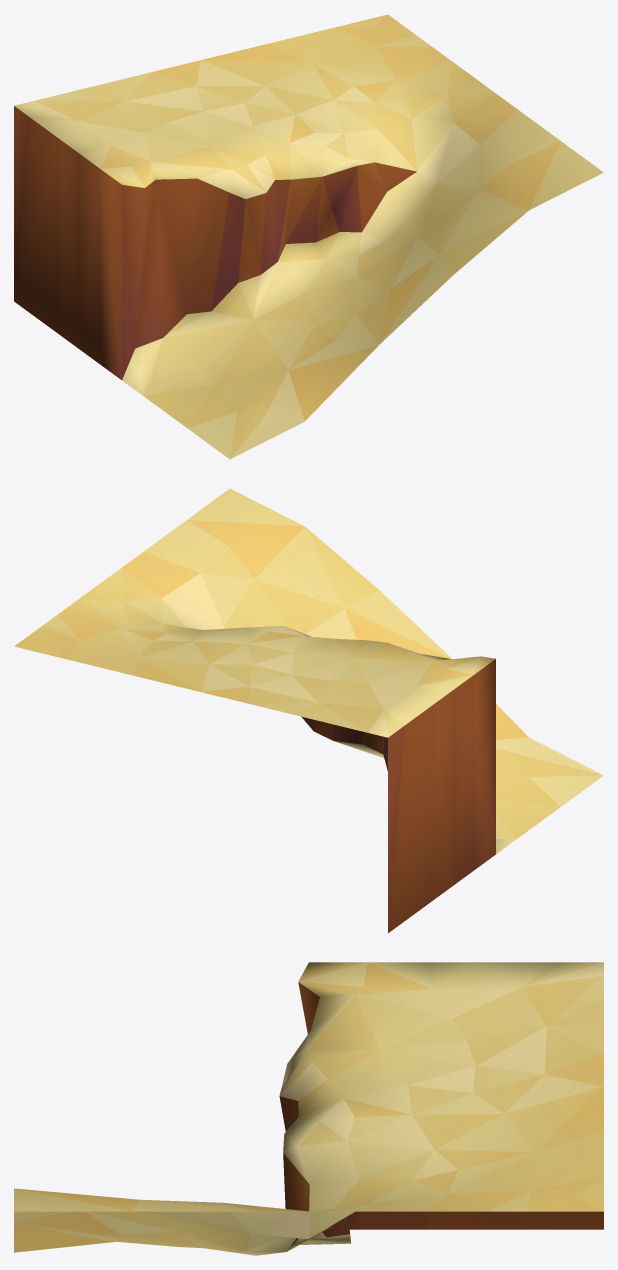
File: GL-Terrain-part-19.fbx
3 views of the same model, one above another, from view 1: azimuth 30°, elevation 25°; view 2: azimuth 150°, elevation 25°; view 3: azimuth 270°, elevation 25° (orthographic). The views are drawn at different scales.
Parts seen in each view (by area): view 1: GL-Terrain-part-19; view 2: GL-Terrain-part-19; view 3: GL-Terrain-part-19.
Part boxes in pixels (x1=…): GL-Terrain-part-19: x1=14, y1=14, x2=603, y2=459; GL-Terrain-part-19: x1=14, y1=488, x2=603, y2=933; GL-Terrain-part-19: x1=14, y1=962, x2=603, y2=1255.
Size of the model in its own units: 6 by 3 by 6.
